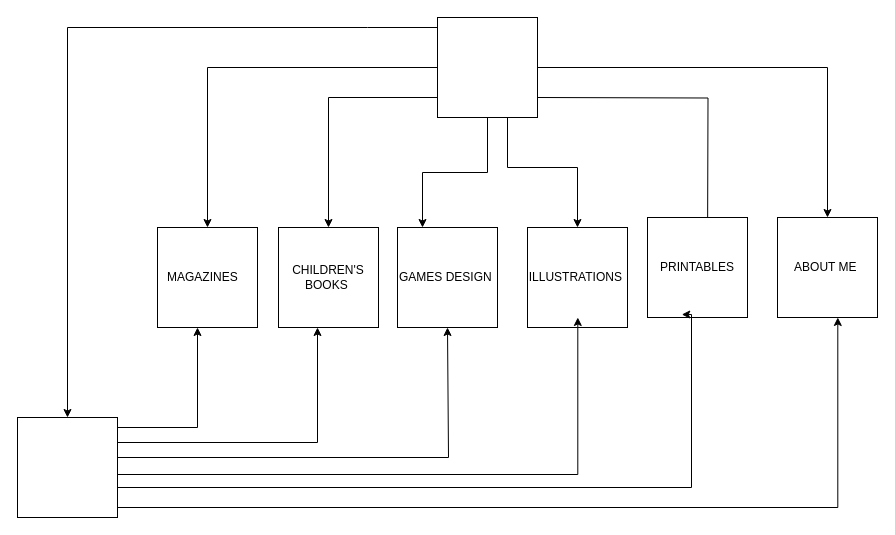
Some shapes in this 895 by 535 pixel diagram are drawn without their labels. The shapes that lost their labels are listed below. From the top down, each one's centre as x and y in pixels, then its label:
At point (487, 67): "WELCOME PAGE".
At point (67, 467): "MEDA LINKS".
